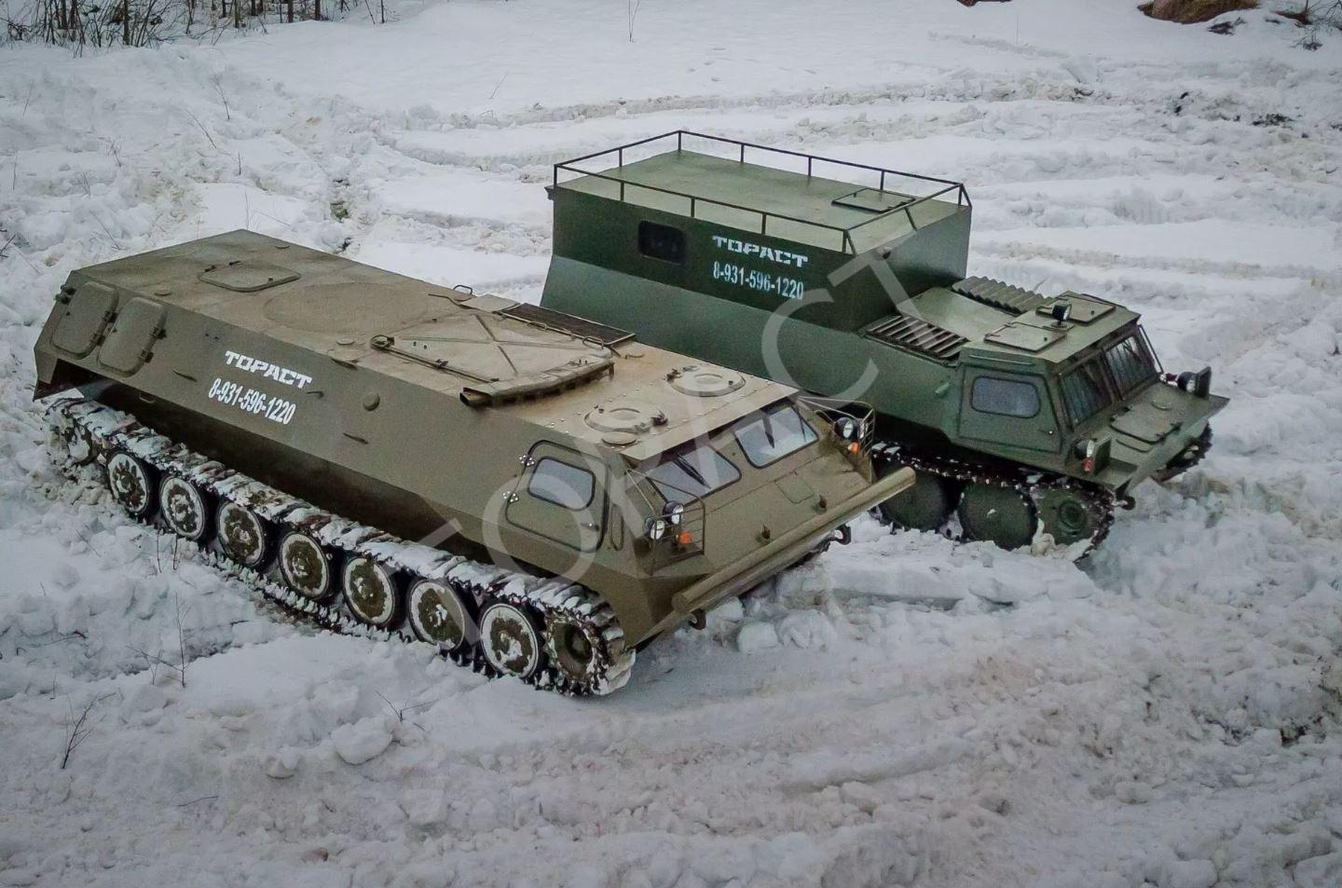tank: (33, 225, 920, 700), (536, 128, 1232, 566)
